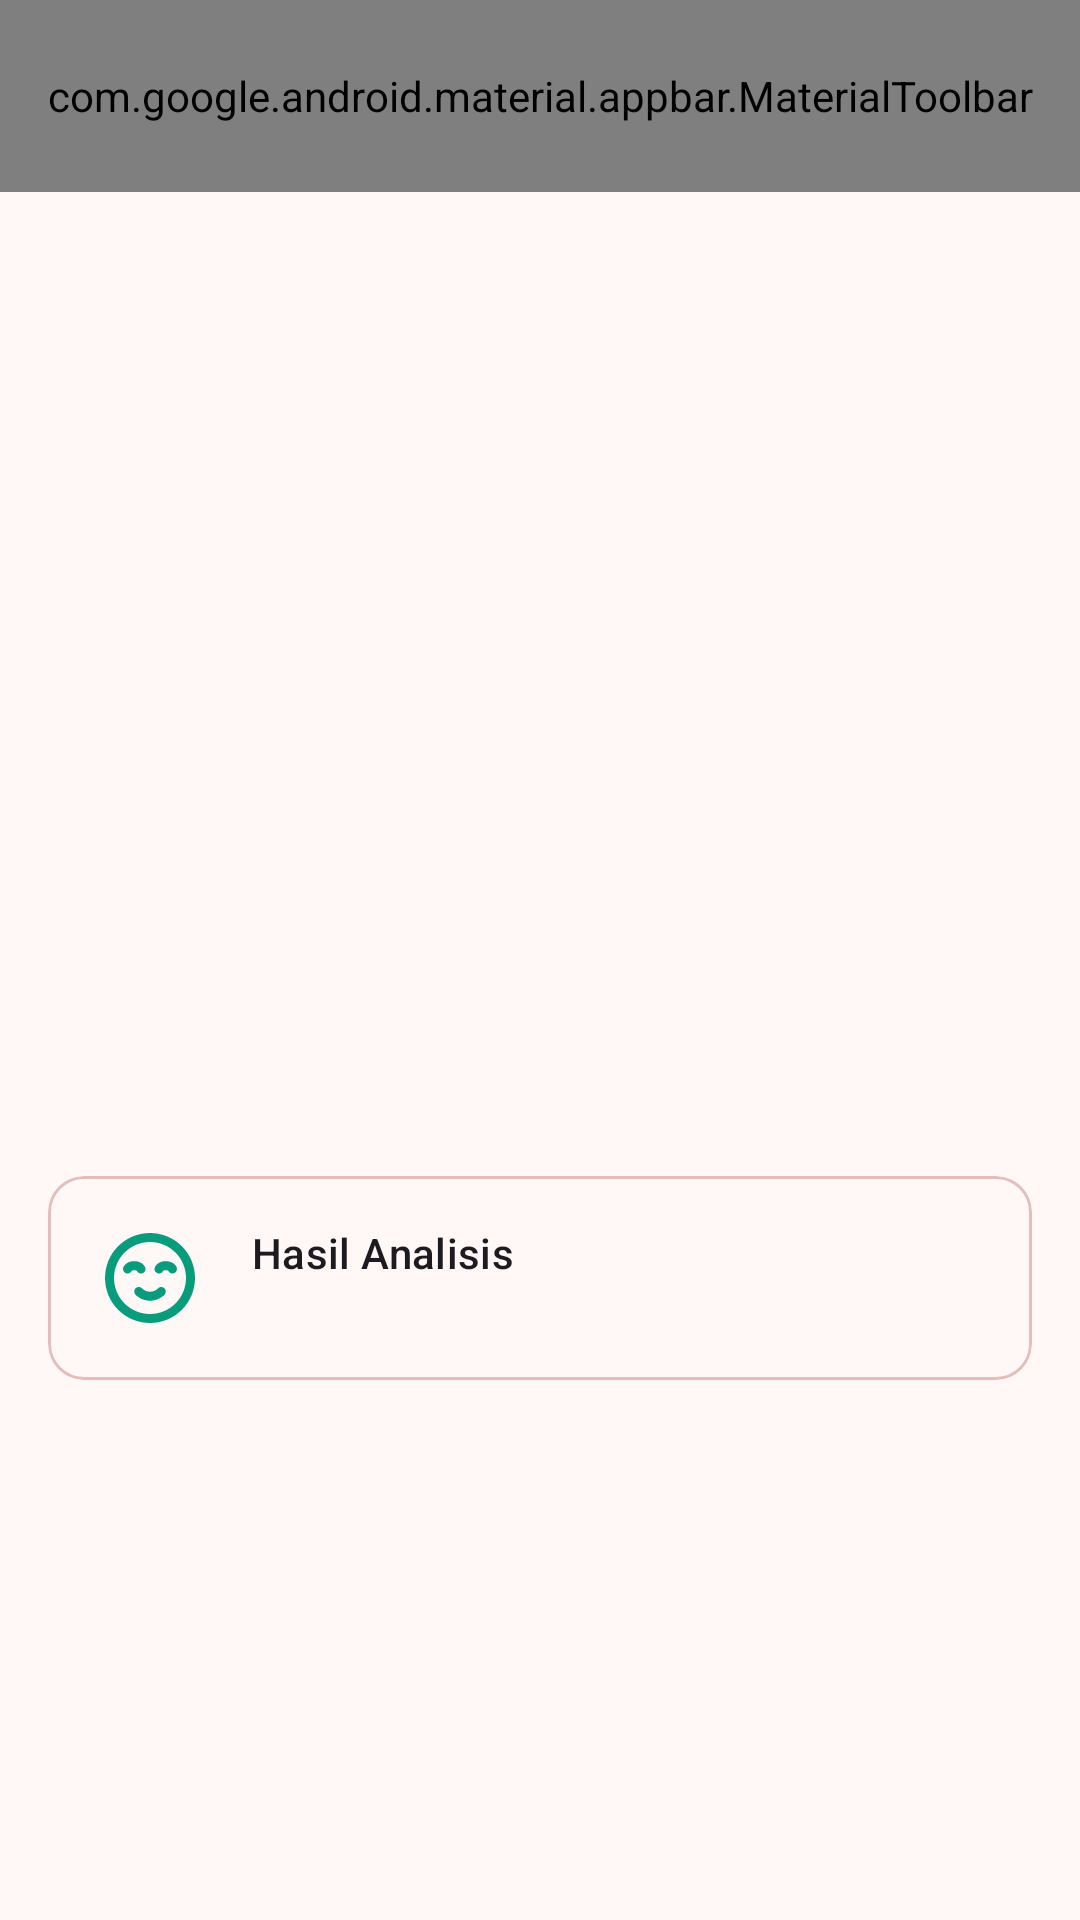

Icons on this 1080x1920 Android screen, each with the point to tap as (x=x, y=y):
smile: (x=150, y=1278)
